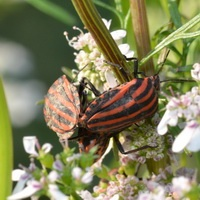insect: (44, 58, 199, 155), (116, 95, 167, 151)
